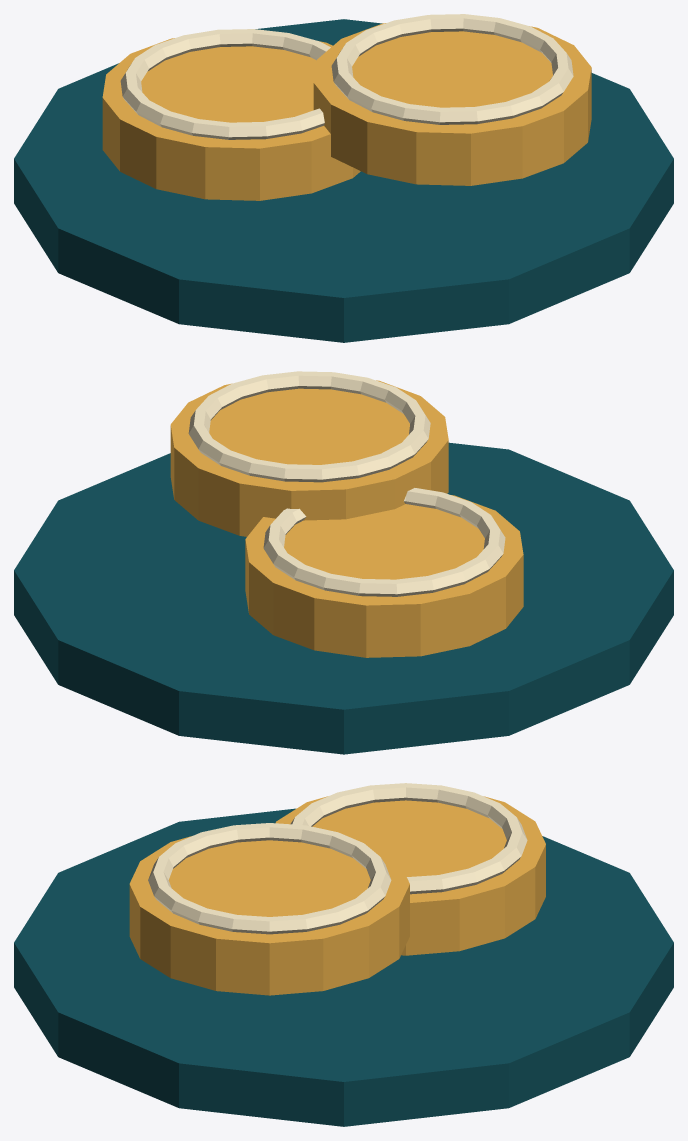
Rendered from Icon_Credits.fbx.
3 renders of one model, top to bottom at view 1: azimuth 30°, elevation 25°; view 2: azimuth 150°, elevation 25°; view 3: azimuth 270°, elevation 25°, orthographic.
Parts seen in each view (by area): view 1: Icon_Credits_Static; view 2: Icon_Credits_Static; view 3: Icon_Credits_Static.
Boxes of the visible parts, x1=… form: Icon_Credits_Static: x1=14, y1=14, x2=673, y2=342; Icon_Credits_Static: x1=14, y1=371, x2=673, y2=754; Icon_Credits_Static: x1=14, y1=783, x2=673, y2=1126.
Bounding box in the file's own units: 1.6 × 0.4017 × 1.6.
1 material, 1 textured.
